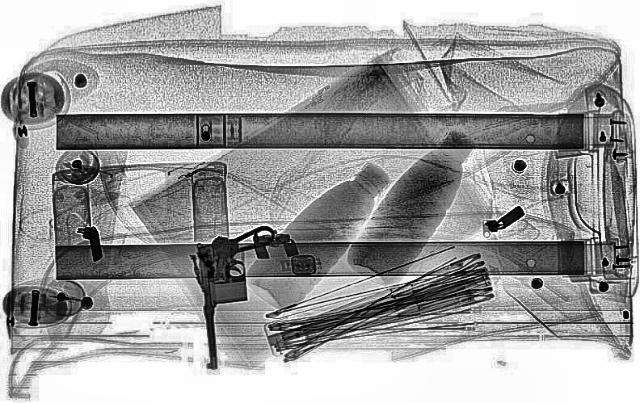Gun: (186, 224, 290, 368)
